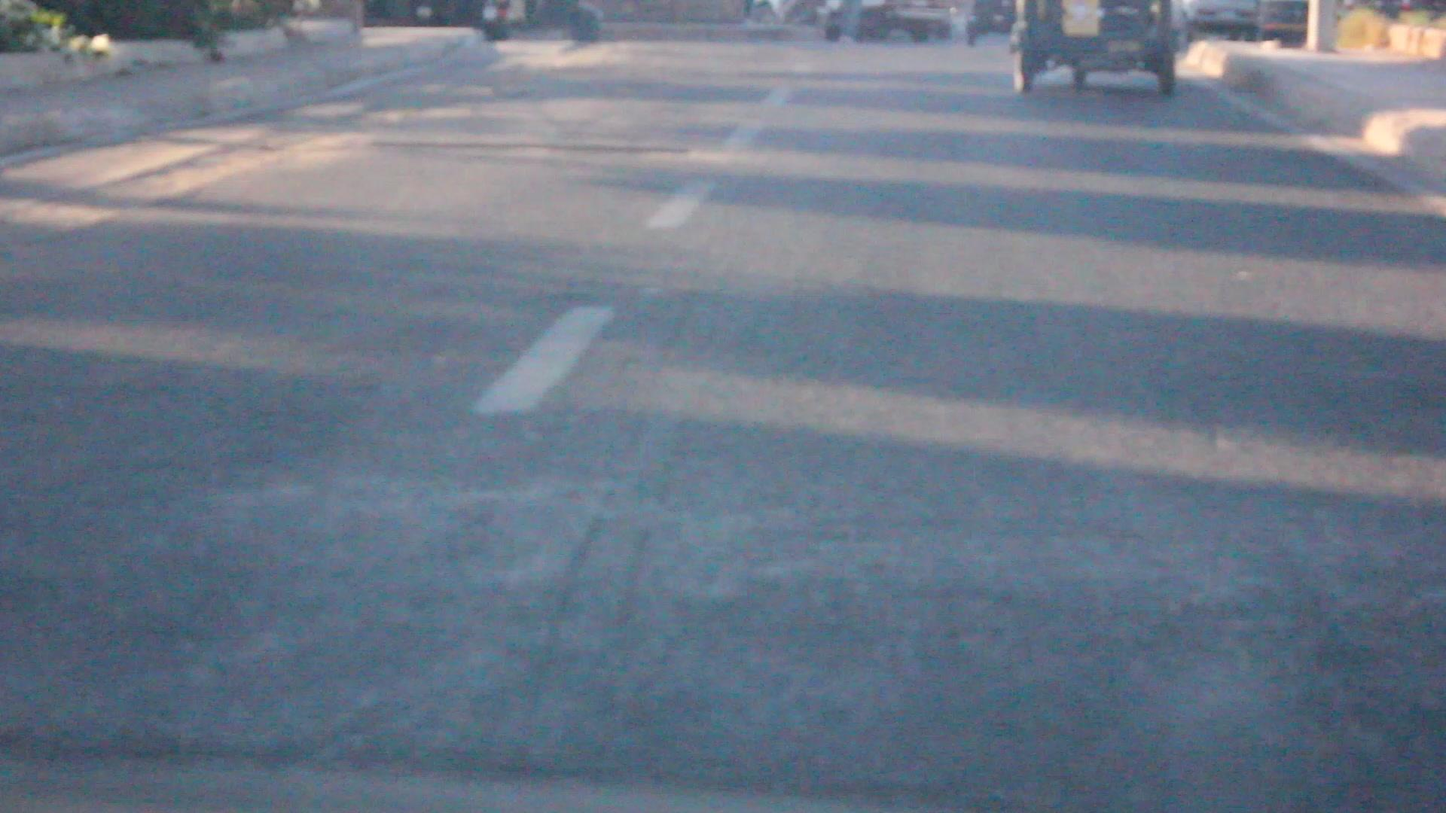Bump: (40, 459, 1446, 796)
